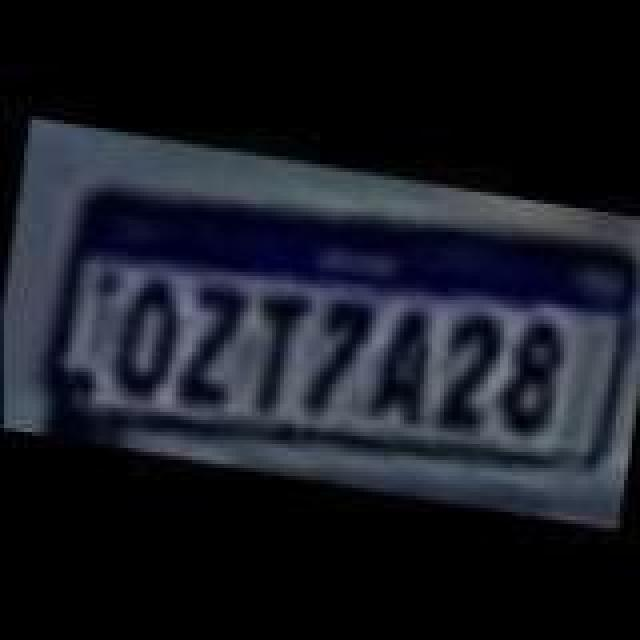2: (418, 298, 506, 426)
7: (296, 292, 380, 424)
8: (488, 308, 572, 444)
A: (360, 296, 444, 428)
O: (104, 272, 188, 408)
T: (234, 288, 314, 420)
Z: (166, 280, 254, 412)
